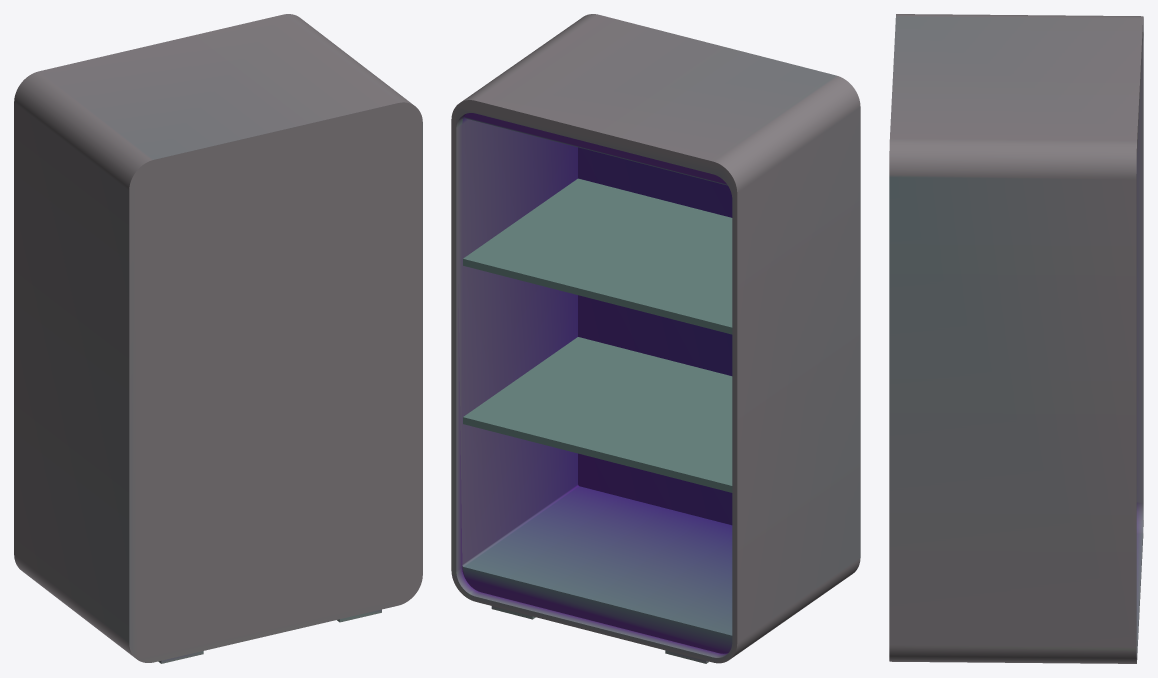
File: simready-cabinet_file_d02.glb
3 views of the same model, side by side, from view 1: azimuth 30°, elevation 25°; view 2: azimuth 150°, elevation 25°; view 3: azimuth 270°, elevation 25° (orthographic). The views are drawn at different scales.
Parts seen in each view (by area): view 1: rounded_case; view 2: rounded_case, lower_shelf, upper_shelf; view 3: rounded_case.
Boxes of the visible parts, box(x1,y1,x2,y2) form: rounded_case: box(14, 14, 422, 663); rounded_case: box(451, 14, 860, 663); lower_shelf: box(463, 337, 732, 492); upper_shelf: box(463, 178, 732, 334); rounded_case: box(889, 14, 1143, 663).
Bounding box in the file's own units: 0.5296 × 0.8768 × 0.3828.
